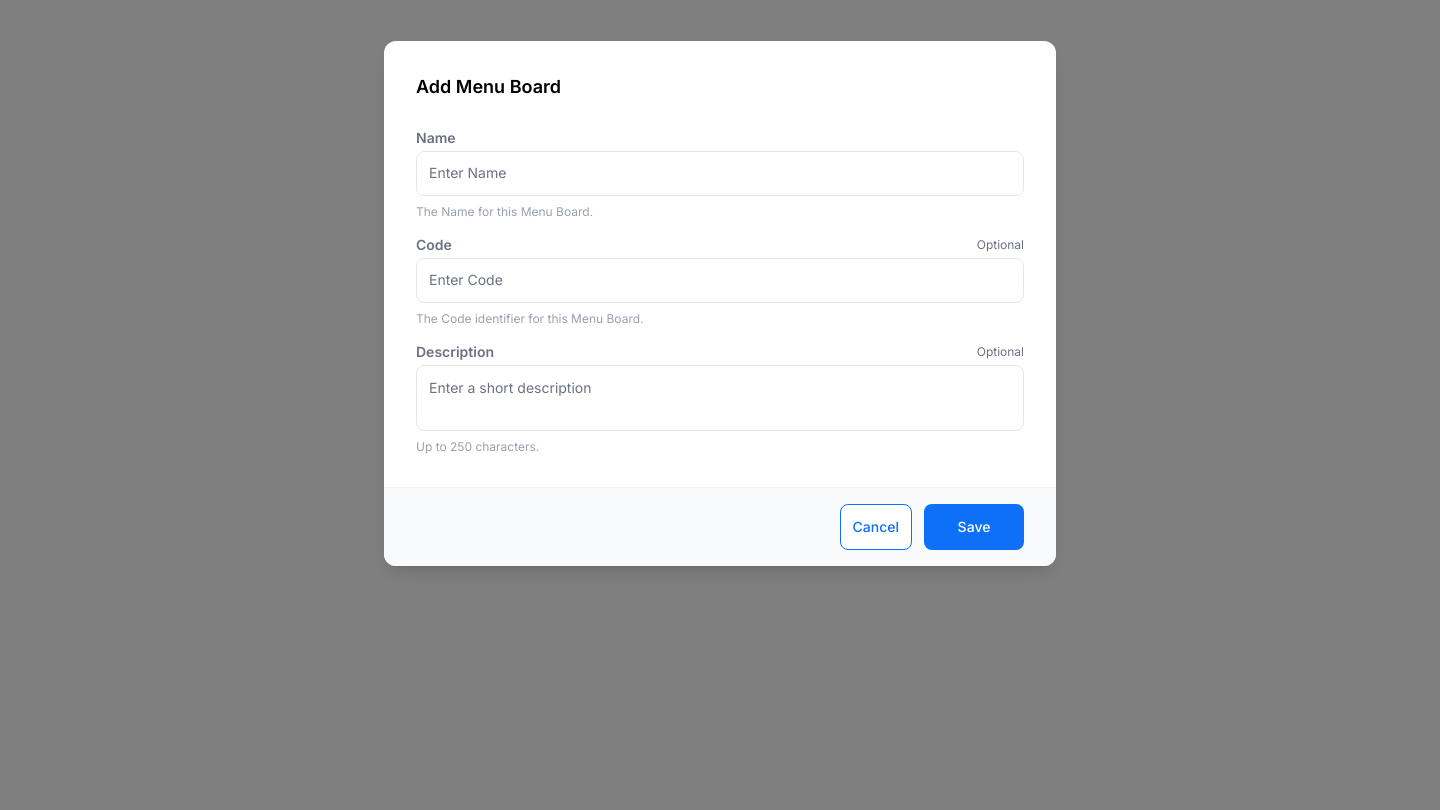
Test case: AddAndEditMenuBoardModal › Add mode › displays API error message when createMenuBoard rejects
Type "Bad Board" into the field labelled "Name".
click(720, 173); type("Bad Board")  # box [417, 152, 1023, 194]
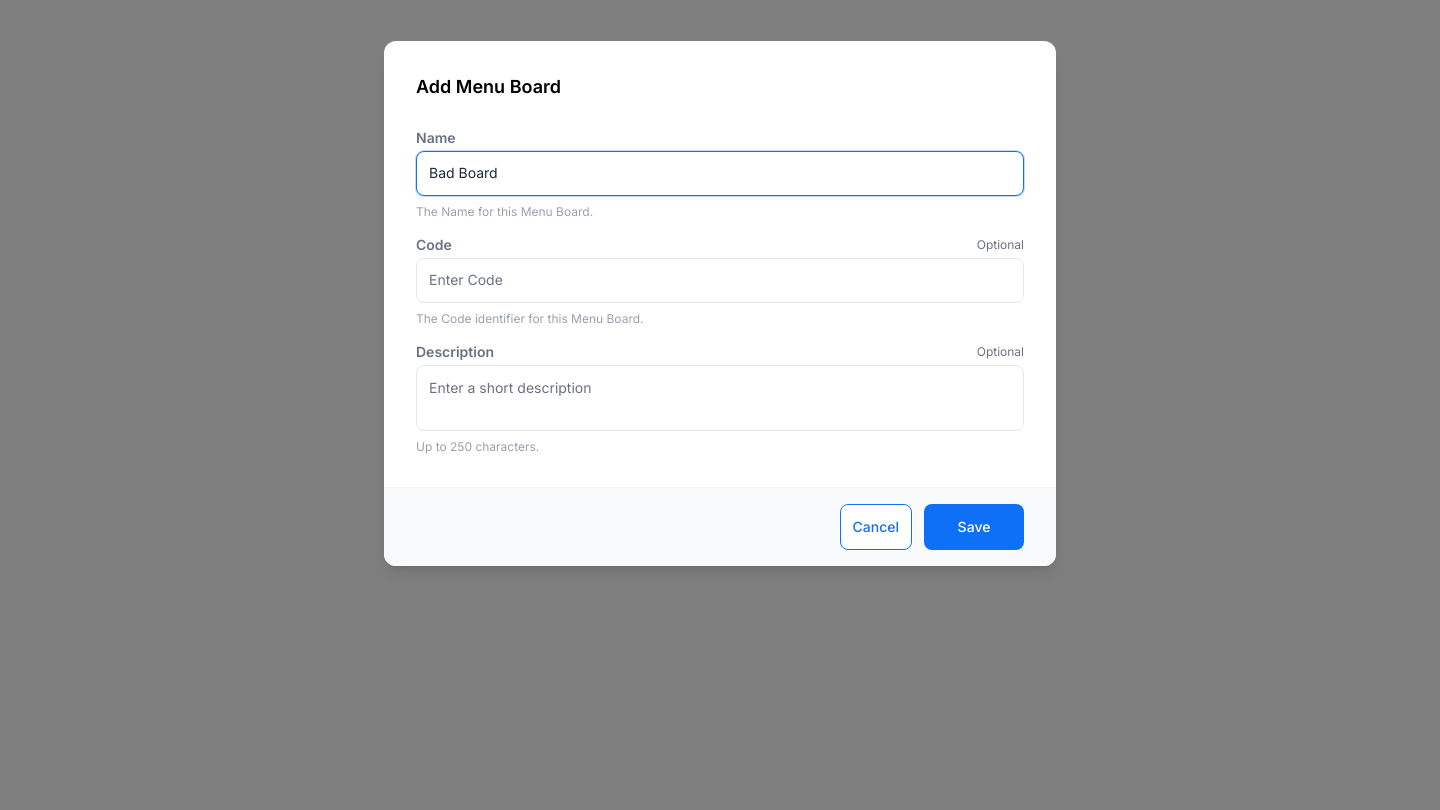
Click the button "Save".
click(974, 526)  # box [924, 504, 1024, 550]
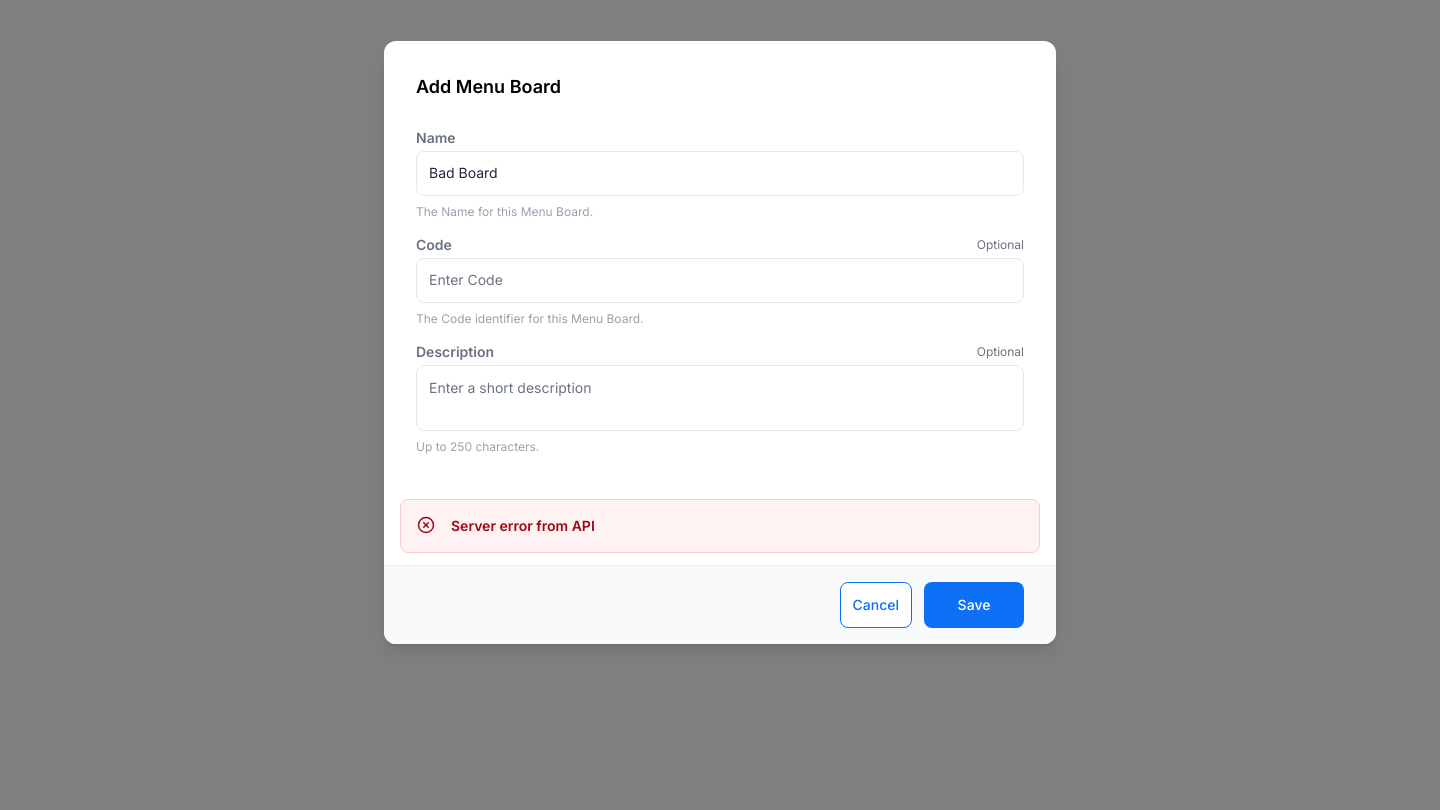
Check: the heading "Server error from API" is shown, box [451, 516, 595, 536]
